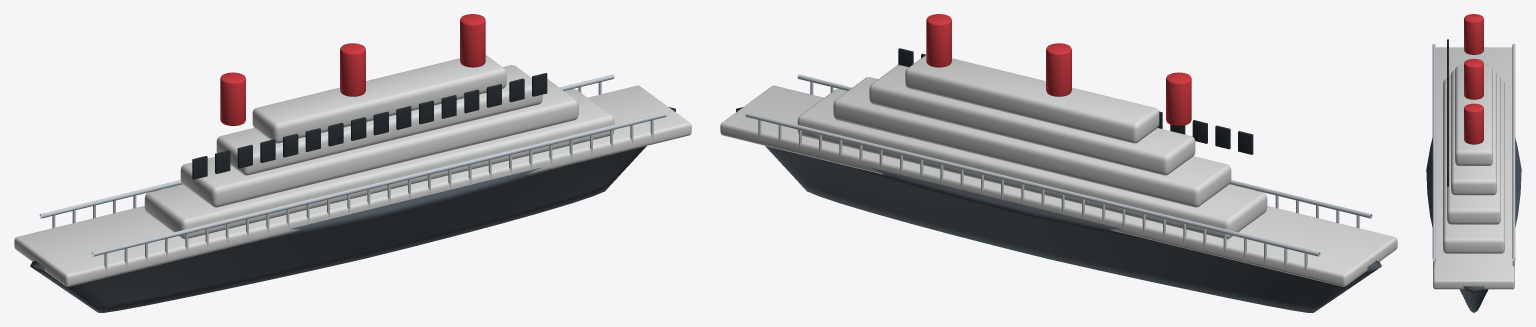
The model's file is brick-ocean-liner.glb.
The picture shows the model from 3 angles, left to right: view 1: azimuth 30°, elevation 25°; view 2: azimuth 150°, elevation 25°; view 3: azimuth 270°, elevation 25°; orthographic projection. The views are drawn at different scales.
Parts seen in each view (by area): view 1: brick-ocean-liner; view 2: brick-ocean-liner; view 3: brick-ocean-liner.
Part boxes in pixels (bbox=[...]): brick-ocean-liner: bbox=[14, 14, 691, 312]; brick-ocean-liner: bbox=[720, 14, 1397, 312]; brick-ocean-liner: bbox=[1426, 14, 1521, 312].
Size of the model in its own units: 0.6 by 0.18 by 0.1.
